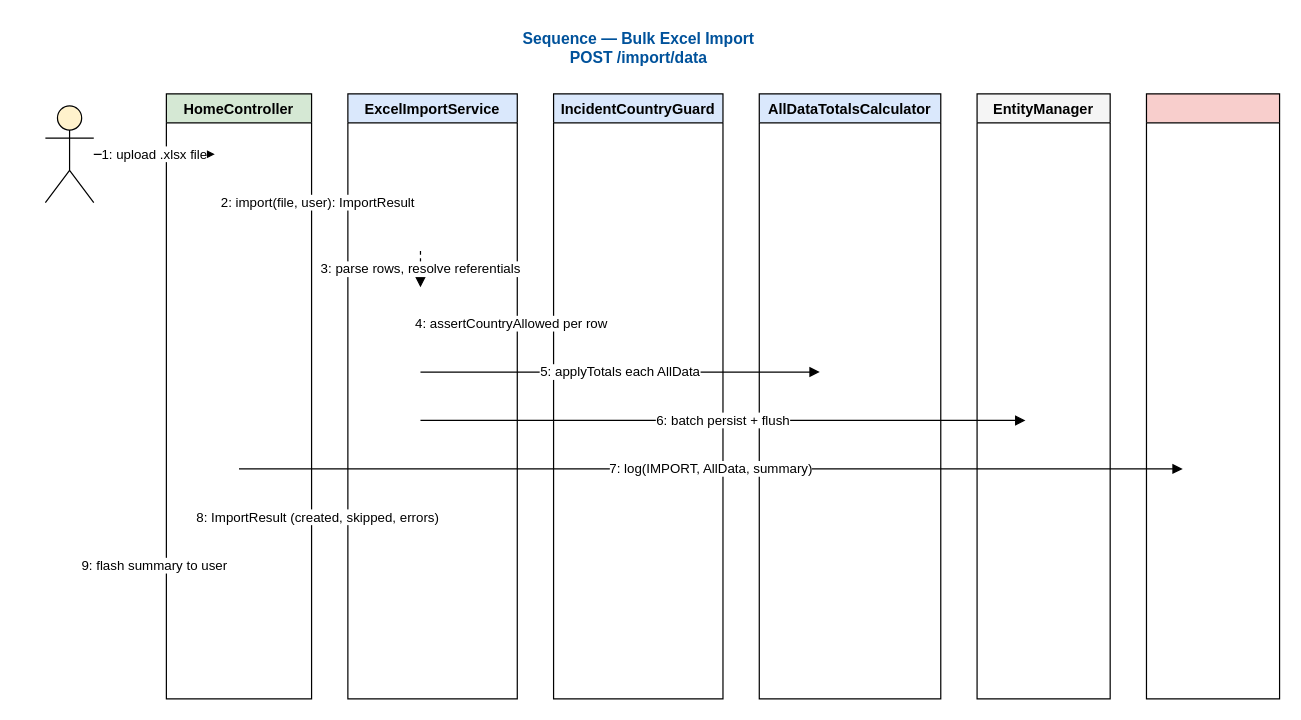
This 1301x720 diagram has some shape labels left out. The shapes that lost their labels are listed below. From the top down, each one's centre as x and y in pixels, then its label:
At point (69, 154): "Country Focal (ROLE_USER)".
At point (1212, 396): "AuditLogger".
